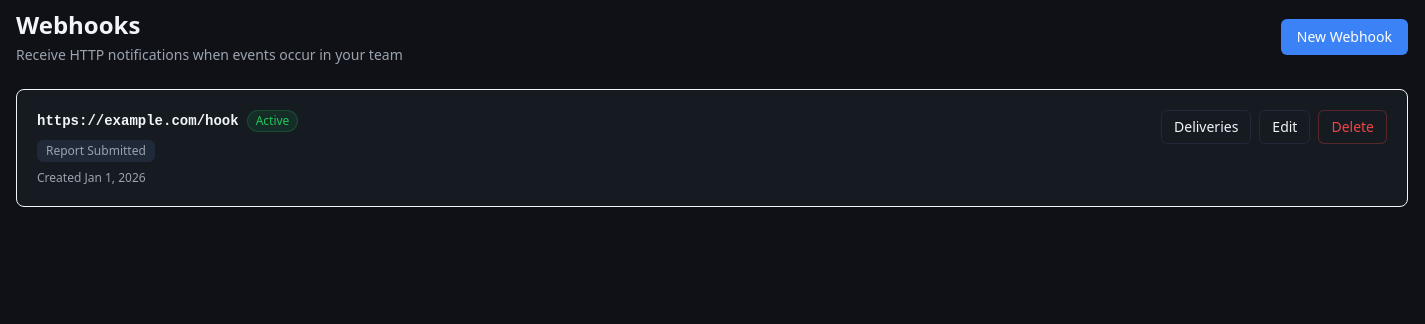
Test: WebhooksPage › shows 0 for status_code 0 instead of dash
The width and height of the screenshot is (1425, 324).
Step 1. Click the button "Deliveries" → coordinates (1206, 127), box [1161, 110, 1251, 144]
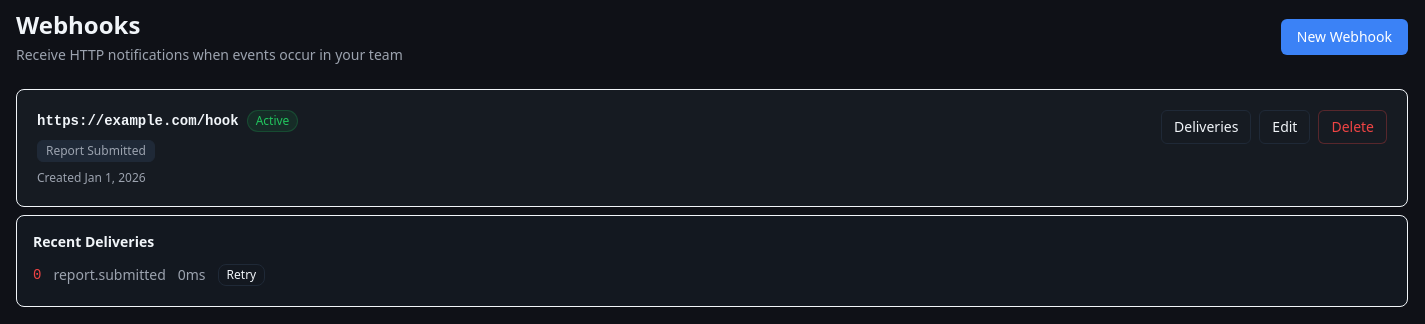
Now the text "0" is shown, box [33, 265, 41, 285]
